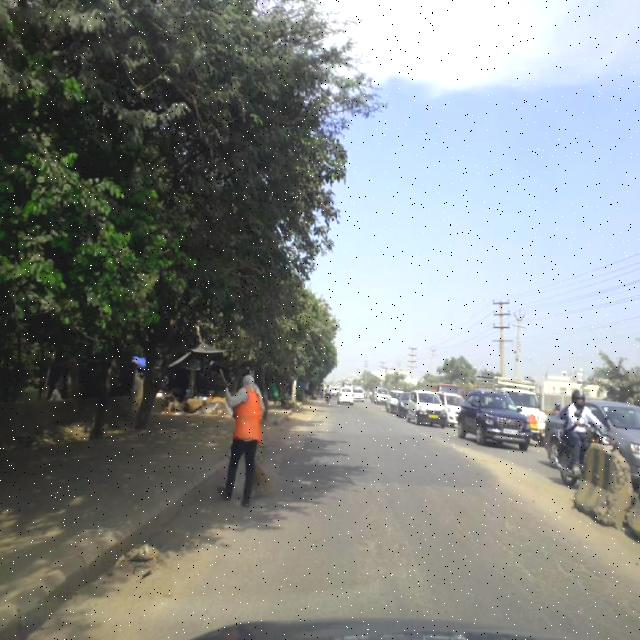D20: (479, 520, 605, 609)
